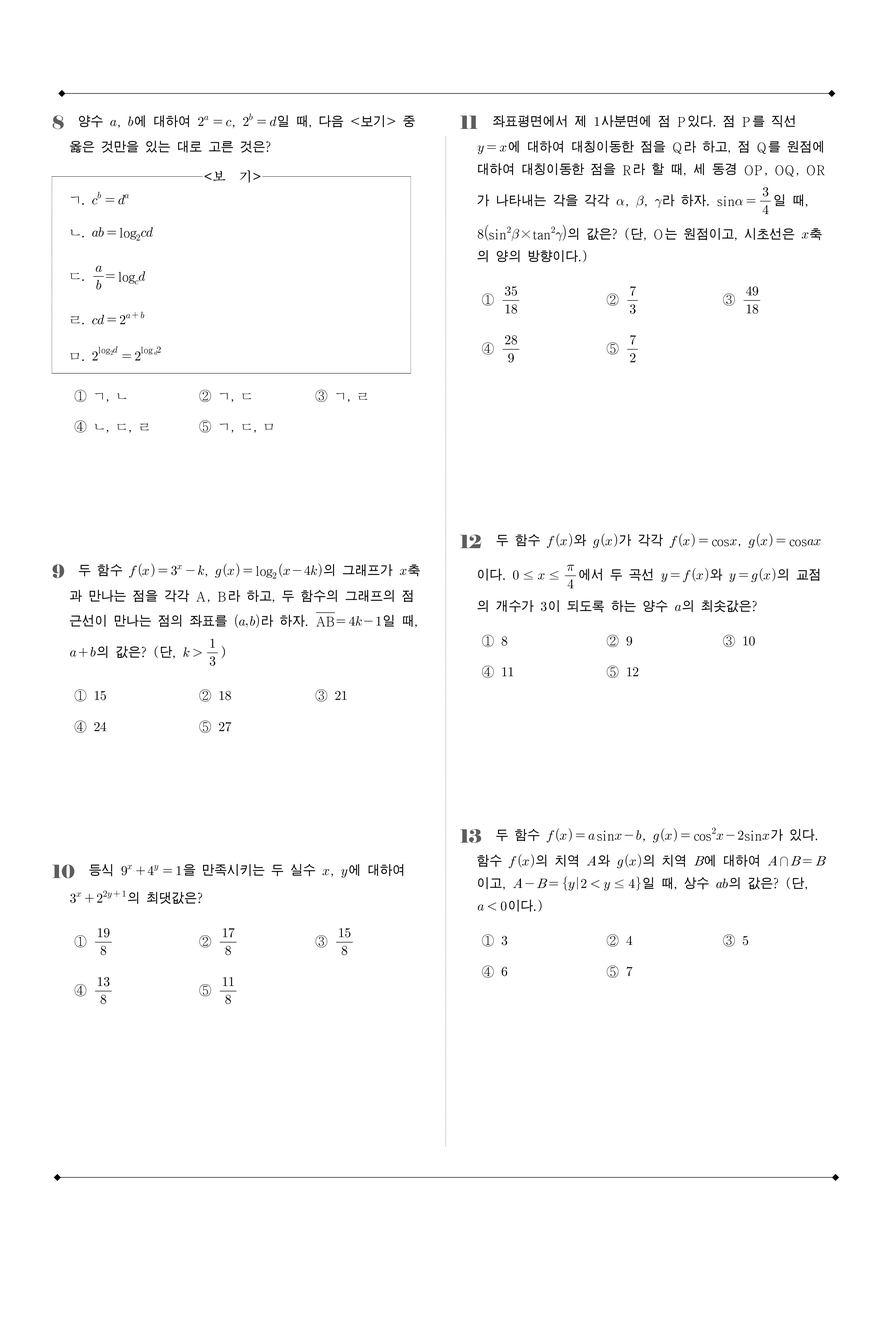problem: (42, 106, 427, 452)
